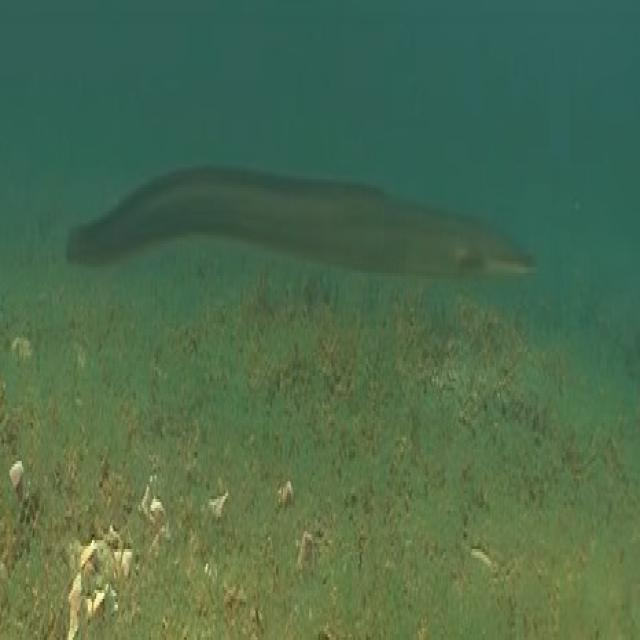Freshwater-Eel: (66, 135, 550, 342)
